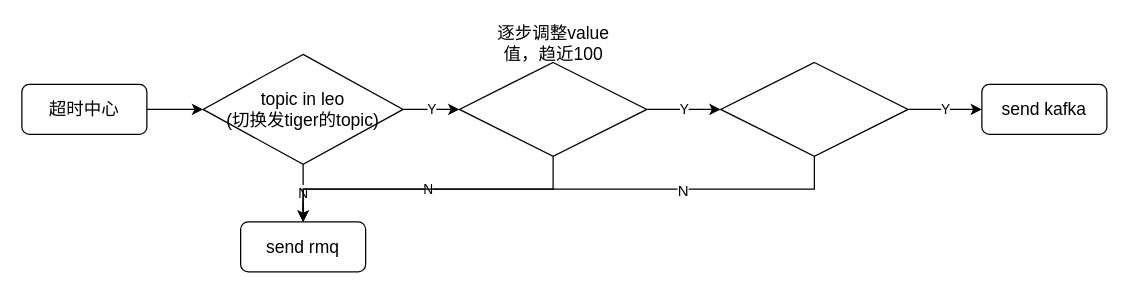
This 1129x294 diagram has some shape labels left out. The centre of each missing label's shape, as x and y in pixels:
hash(secretId)%100 <leo(value): pixel 552 108
topic in leo (要求不双发的topic): pixel 813 108
